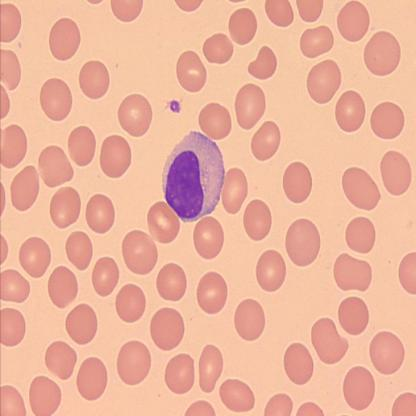Atypical lymphocyte: (160, 130, 228, 223)
